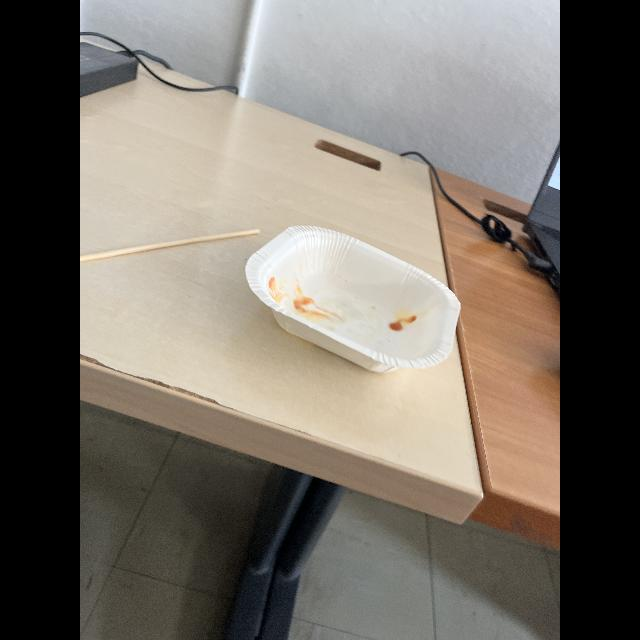cardboard_bowl: (247, 220, 459, 370)
stick: (80, 228, 260, 266)
